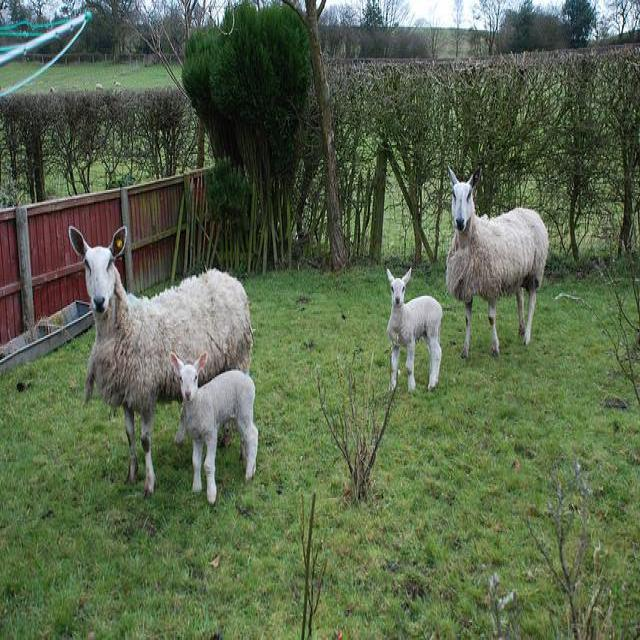Sheep: (69, 227, 256, 495), (443, 167, 548, 359), (171, 353, 259, 505), (389, 269, 445, 396)
